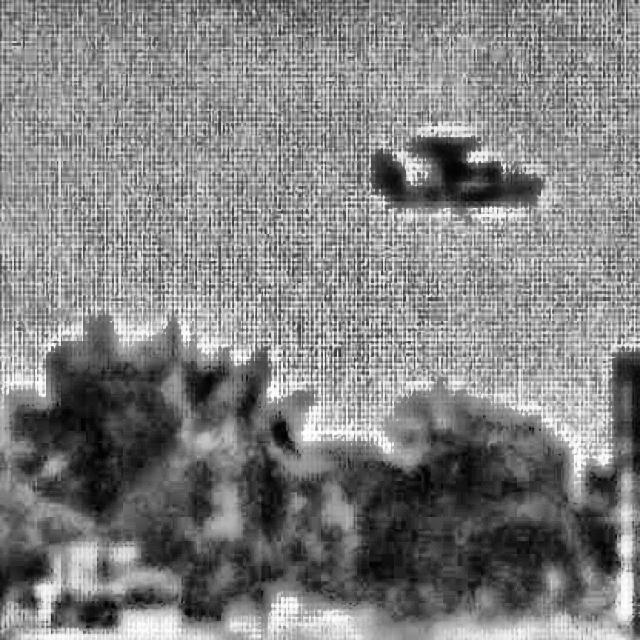E2: (370, 133, 545, 212)
